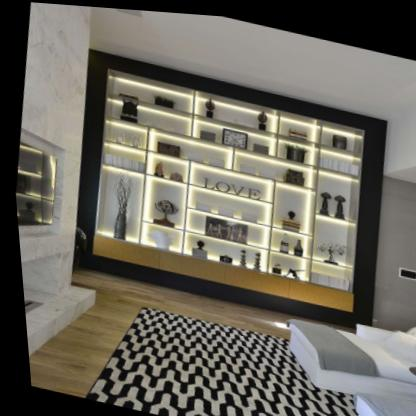Cupboard: (71, 49, 385, 324)
